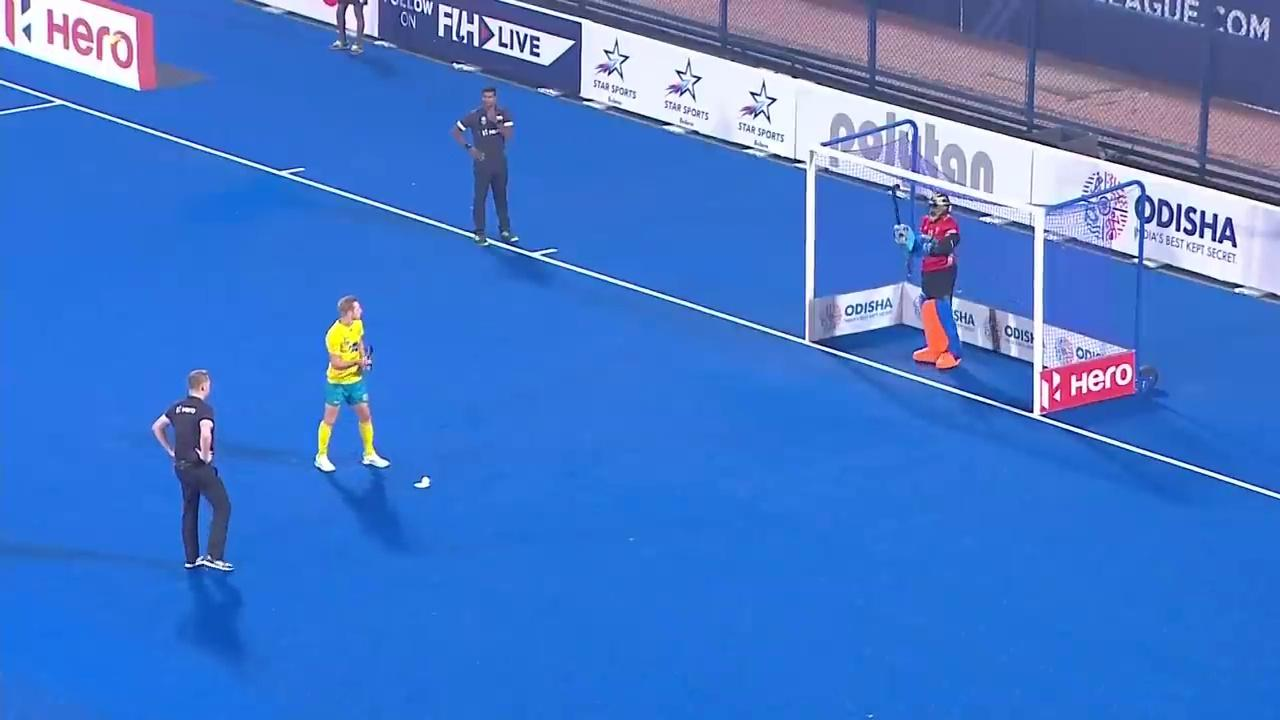ball: (405, 467, 441, 492)
